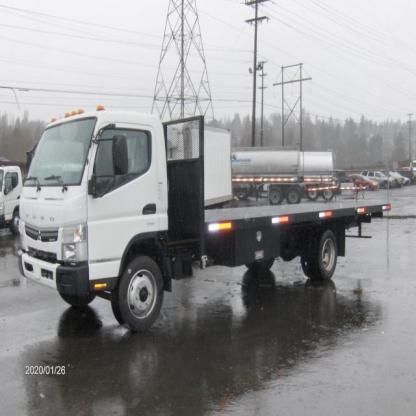truck: (19, 110, 392, 333)
